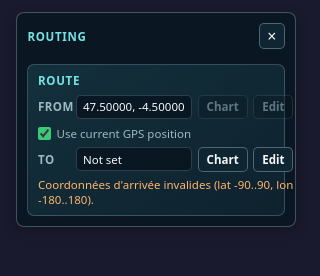
Scenario: RoutingPanel › les boutons pick/edit du départ sont désactivés tant que la position courante est utilisée
Expected: the button with aria-label "Pick departure on chart" is disabled, [198,95,248,119]
Expected: the button with aria-label "Edit departure coordinates" is disabled, [253,95,294,119]
What coordinates should you click on to do the following:
click the checkbox named "Use current position"
I would click on:
 (44, 133)
Its box is [38,127,51,140].
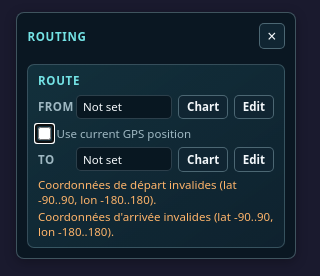
Result: the button with aria-label "Pick departure on chart" is enabled at [178,95,228,119]
Result: the button with aria-label "Edit departure coordinates" is enabled at [234,95,274,119]
